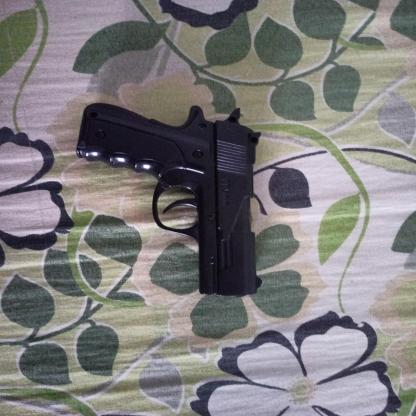handgun: (77, 102, 264, 299)
